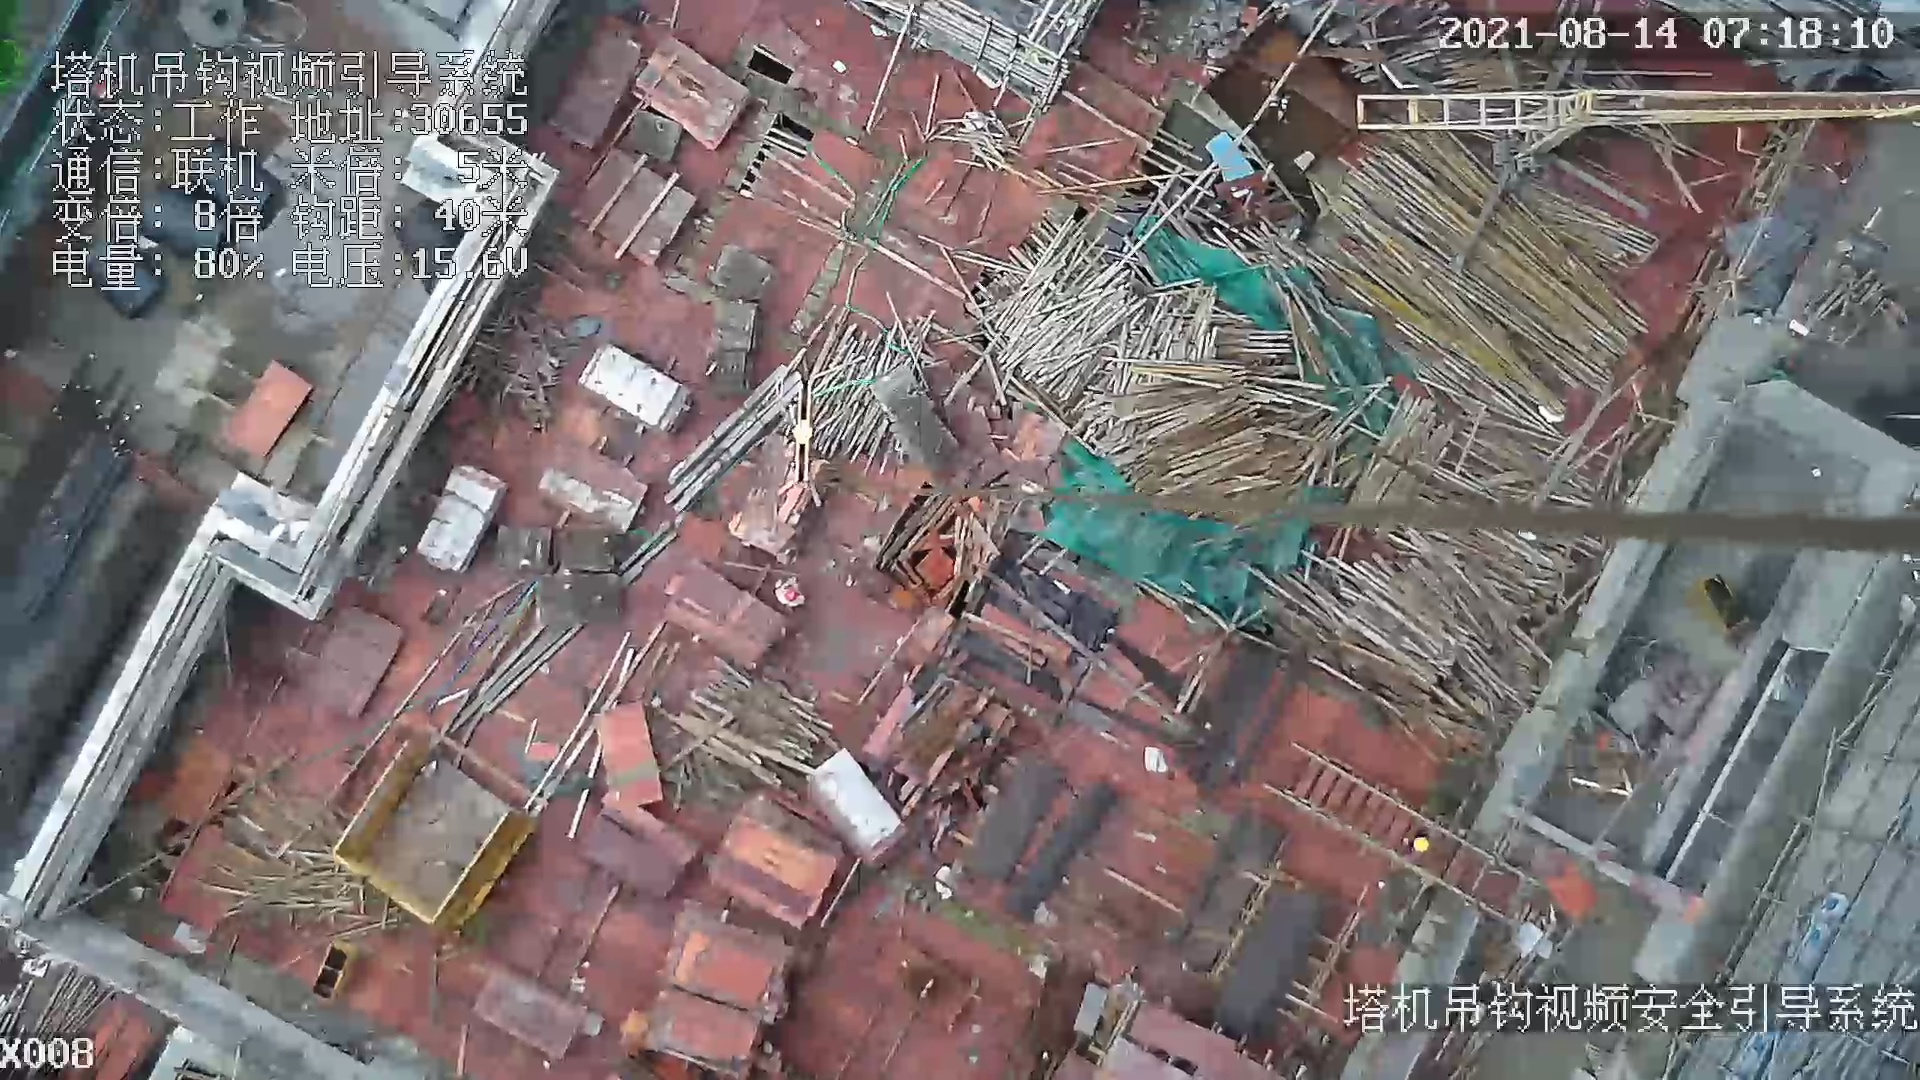helmet: (782, 585, 800, 597)
hook: (786, 372, 824, 490)
person: (772, 574, 812, 605)
